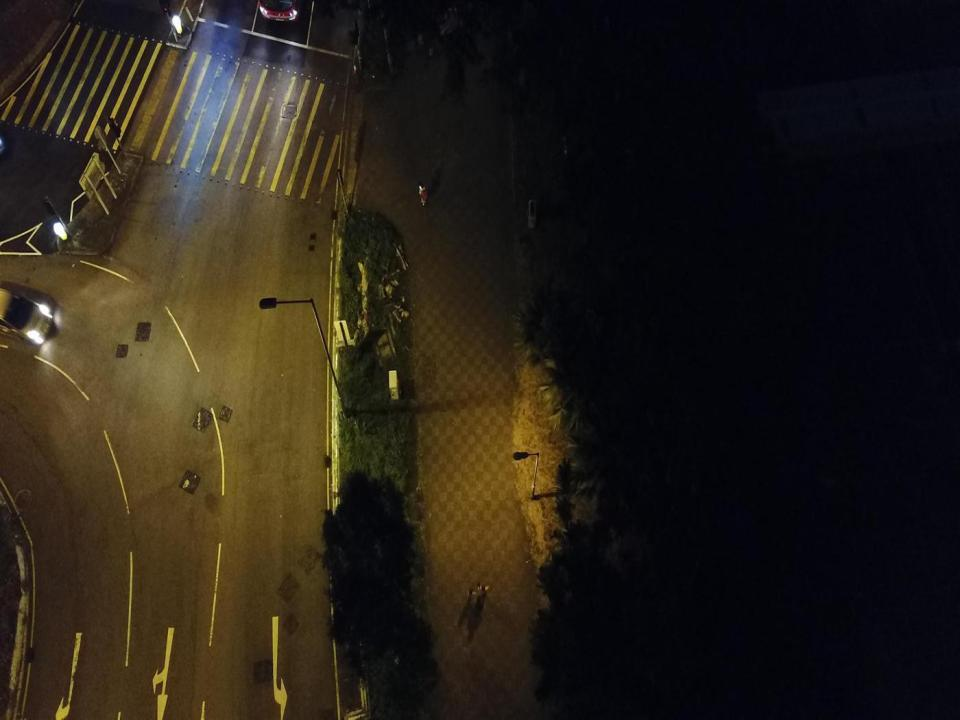car: (0, 286, 54, 346)
